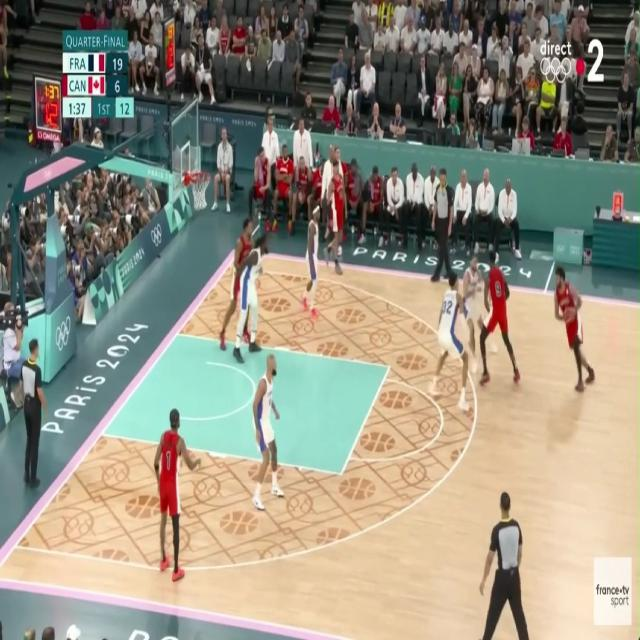ball_handler: (554, 268, 589, 392)
